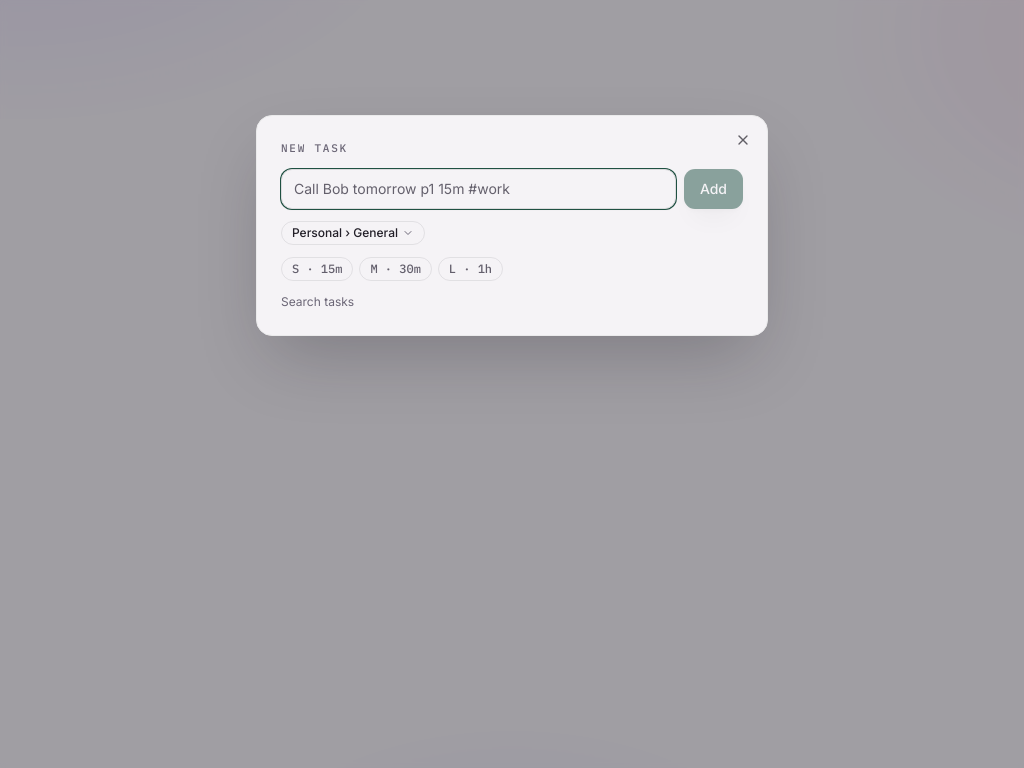
Scenario: QuickCapture (chunk 73) › (5) Add is disabled without a title
Expected: the button "Add" is disabled, [684,169,743,209]
In the field named "Task": (478, 189) [281,169,676,209], type "#work 15m"
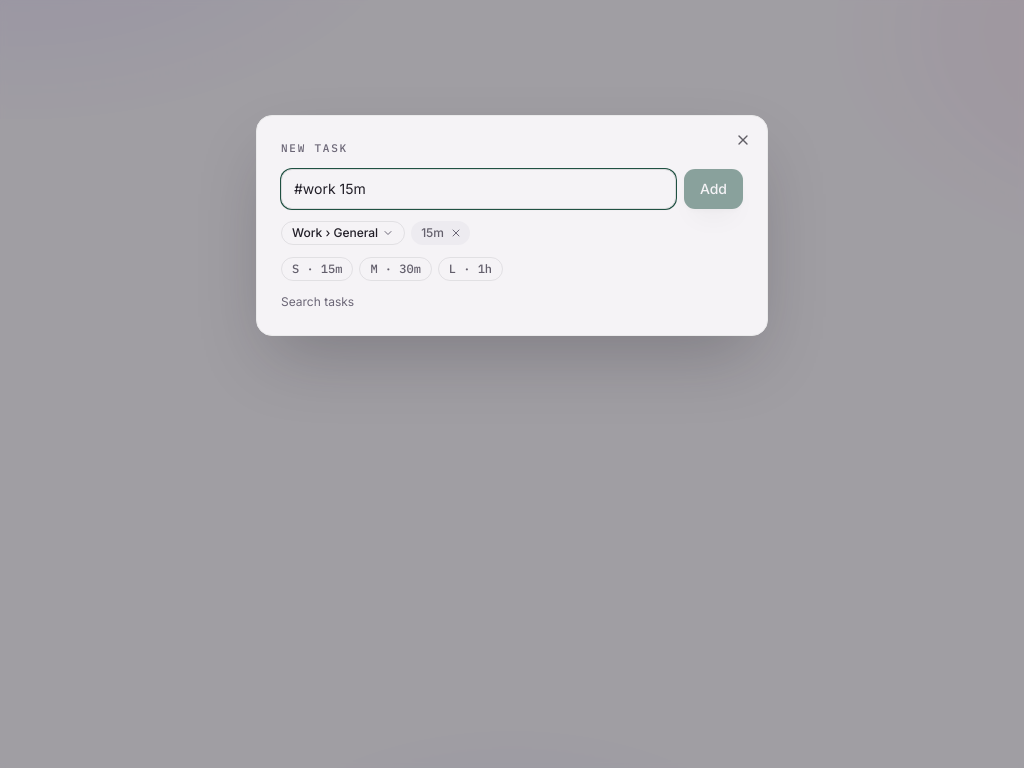
Expected: the button "Add" is disabled, [684,169,743,209]
Expected: the button "Work › General" is shown, [281,221,405,245]
Submit the form named "Task", box [281,169,743,209]
Replace the text in the field named "Task" with "#work 15m Standup": (478, 189) [281,169,676,209]
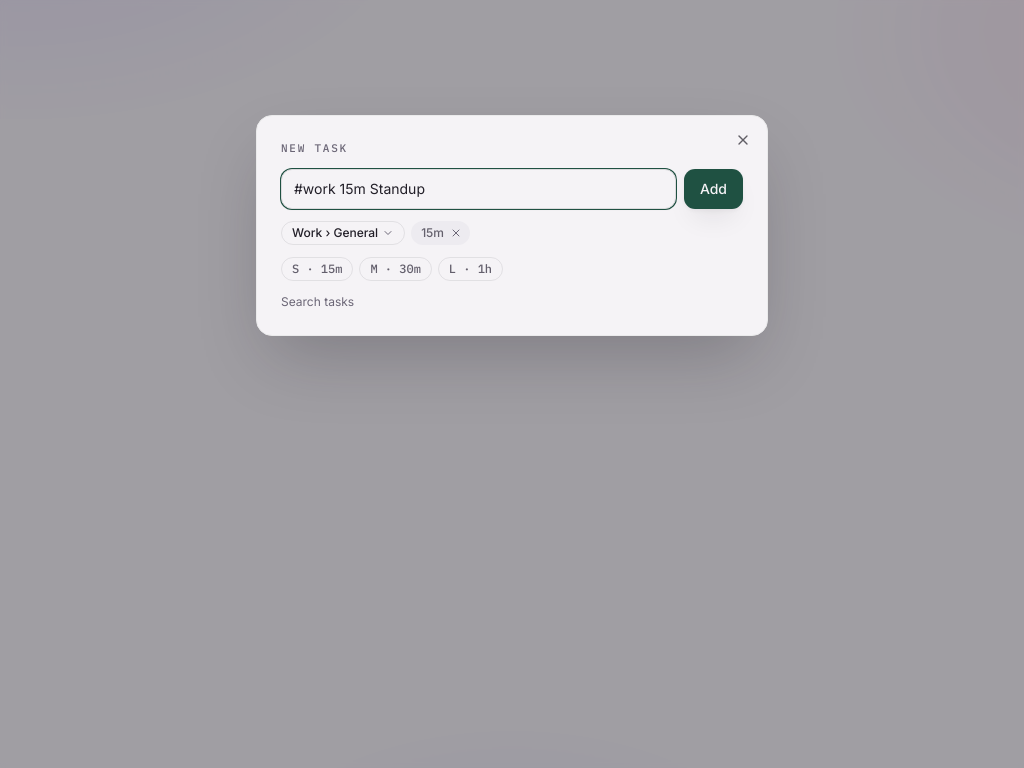
Expected: the button "Add" is enabled, [684,169,743,209]
